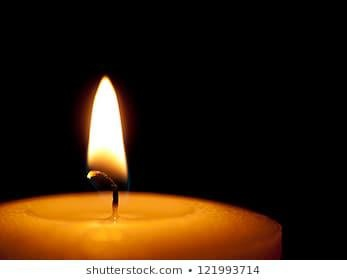fire: (84, 71, 128, 186)
